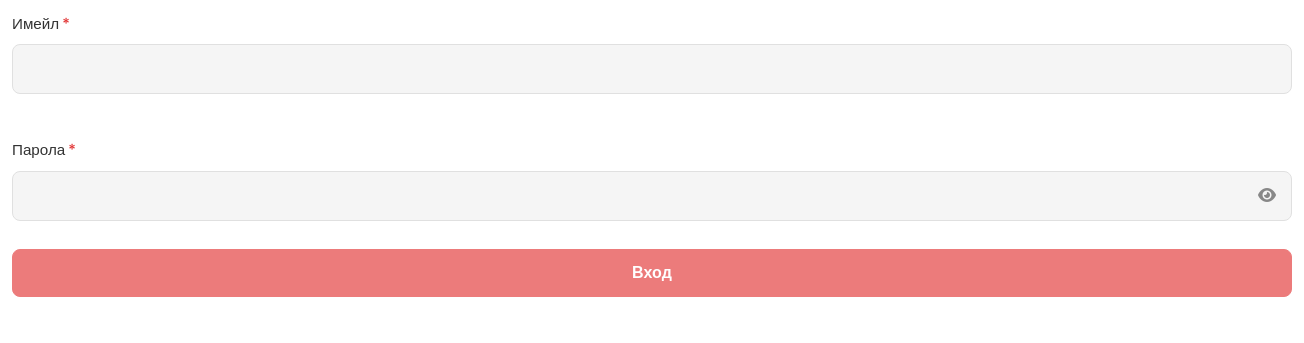
Test: LoginForm компонент › валидира email формат
# Въвеждаме невалиден email
Type "invalid-email" into the field labelled "Имейл*" at (652, 69), box [12,44,1292,94]
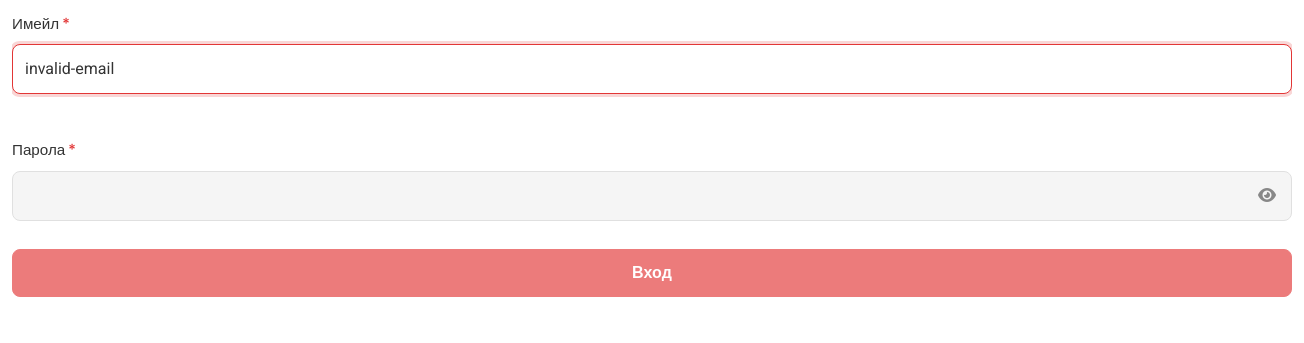
Press Tab
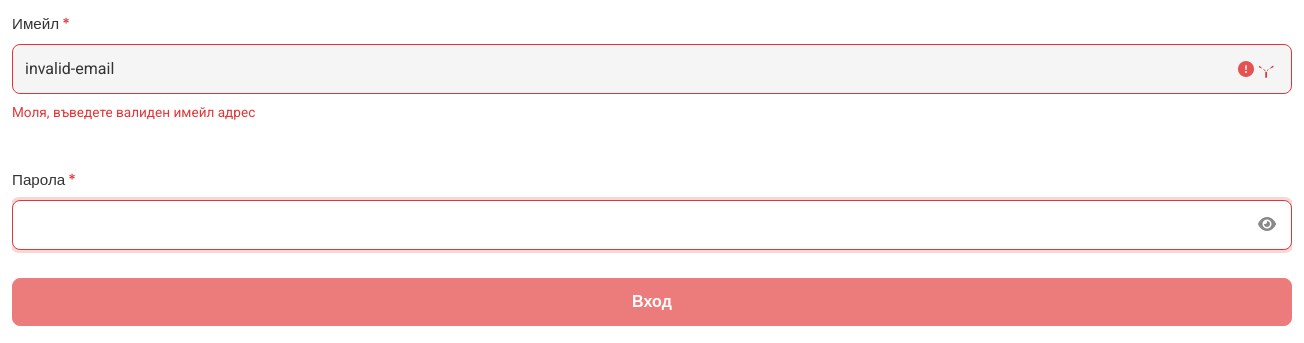
Expected: the text "Моля, въведете валиден имейл адрес" is shown, [12,104,255,120]
